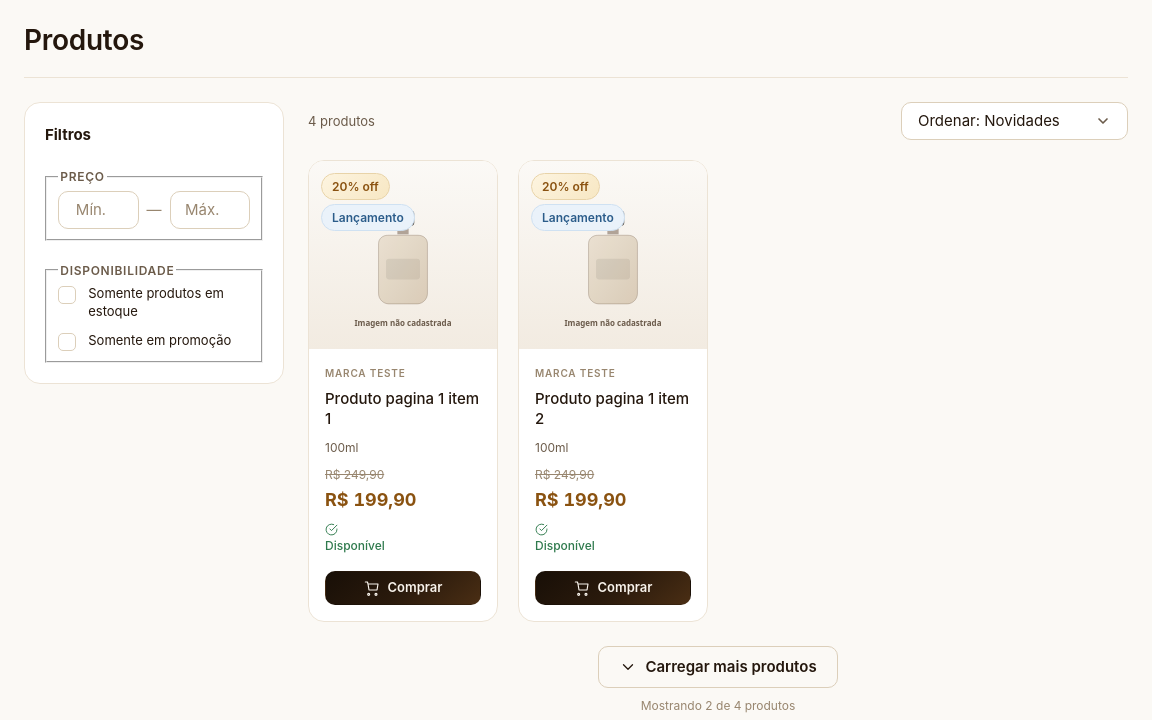
it: CatalogView — carregamento progressivo › anexa a próxima página ao clicar em 'Carregar mais' sem duplicar
Expected: the link "Produto pagina 1 item 1" is shown, [325, 389, 481, 430]
Expected: the text "Produto pagina 2 item 1" is not shown
What coordinates should you click on to do the following:
click the button "Carregar mais produtos"
I would click on:
 (718, 667)
Its box is [598, 646, 838, 688].
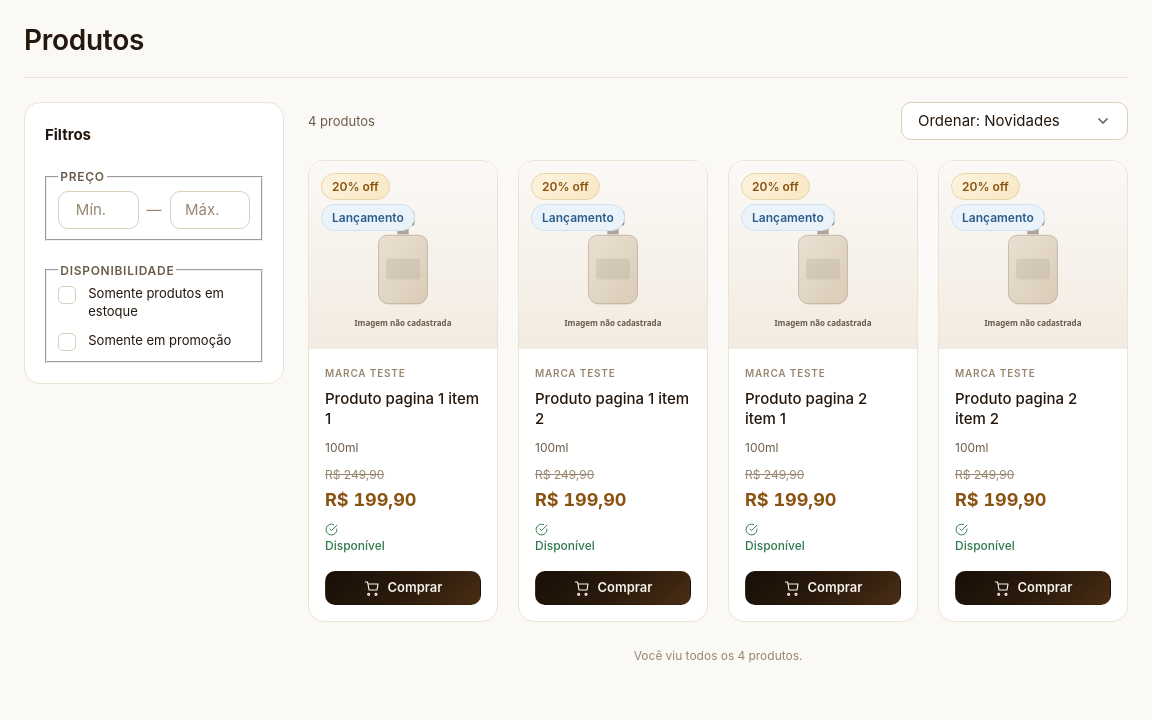
Expected: the link "Produto pagina 2 item 1" is shown, [745, 389, 867, 428]
Expected: the button "Carregar mais produtos" is gone
Expected: the text "Você viu todos os 4 produtos." is shown, [634, 646, 802, 665]
